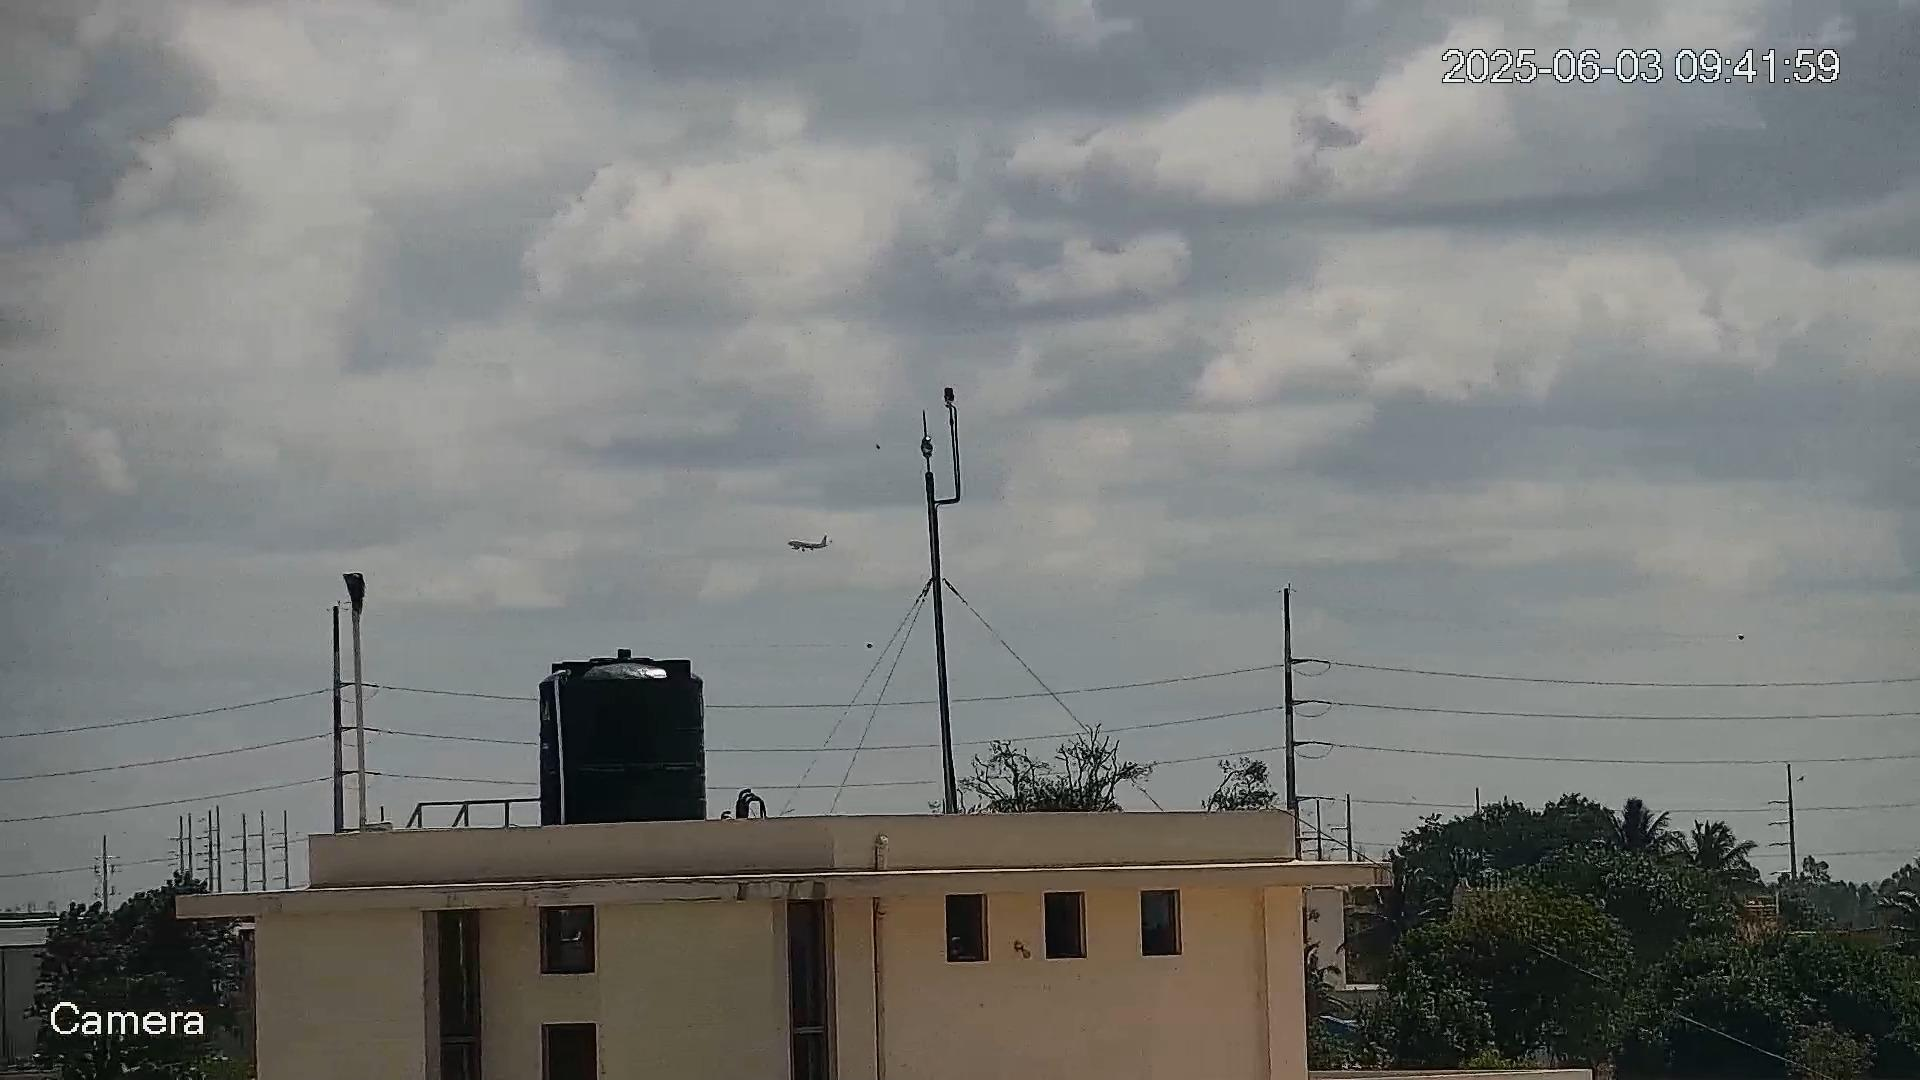Aircraft: (787, 534, 835, 553)
